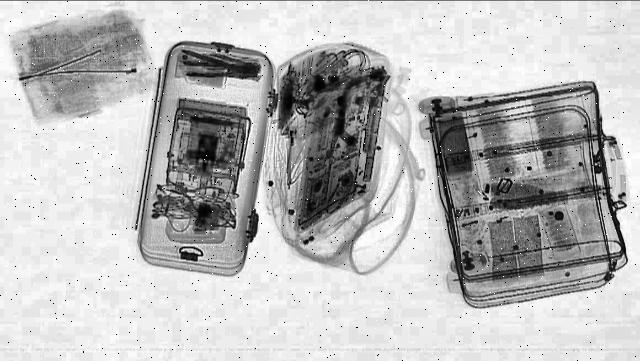Pliers: (152, 174, 230, 213), (180, 60, 262, 80)
